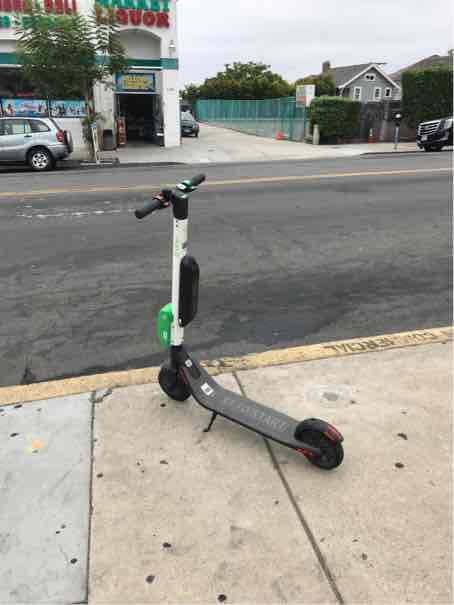scooter: (126, 165, 343, 478)
